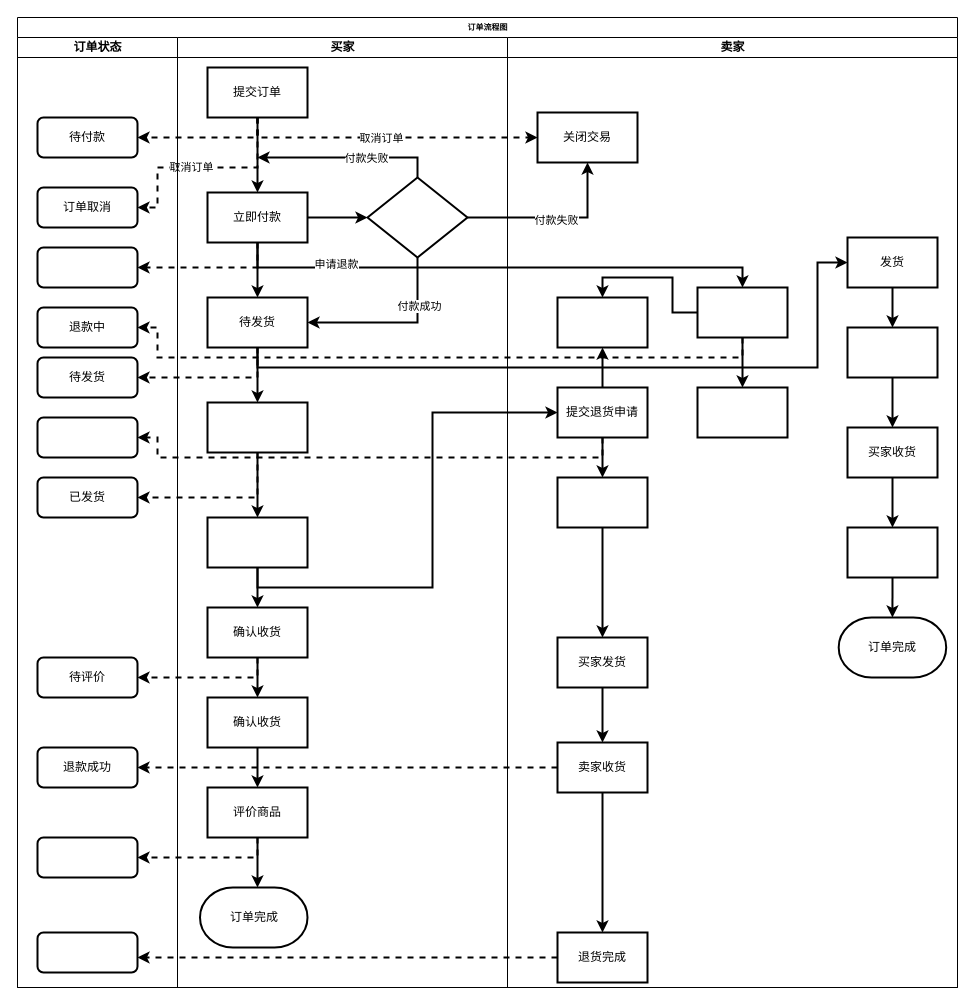
Image size: 975x1005. Some labels were removed from this diagram. Here are the shapes that lost their labels. From the top down, the centre of each, then its label:
At [417,217]: "是否成功付款".
At [87,267]: "付款确认中".
At [602,322]: "卖家拒绝，买家撤销申请".
At [742,312]: "退款申请".
At [892,352]: "物流追踪".
At [257,427]: "卖家确认发货".
At [742,412]: "卖家同意退款".
At [87,437]: "退货中".
At [602,502]: "卖家同意".
At [257,542]: "物流跟踪".
At [892,552]: "查看评价".
At [87,857]: "交易完成".
At [87,952]: "退货成功".
